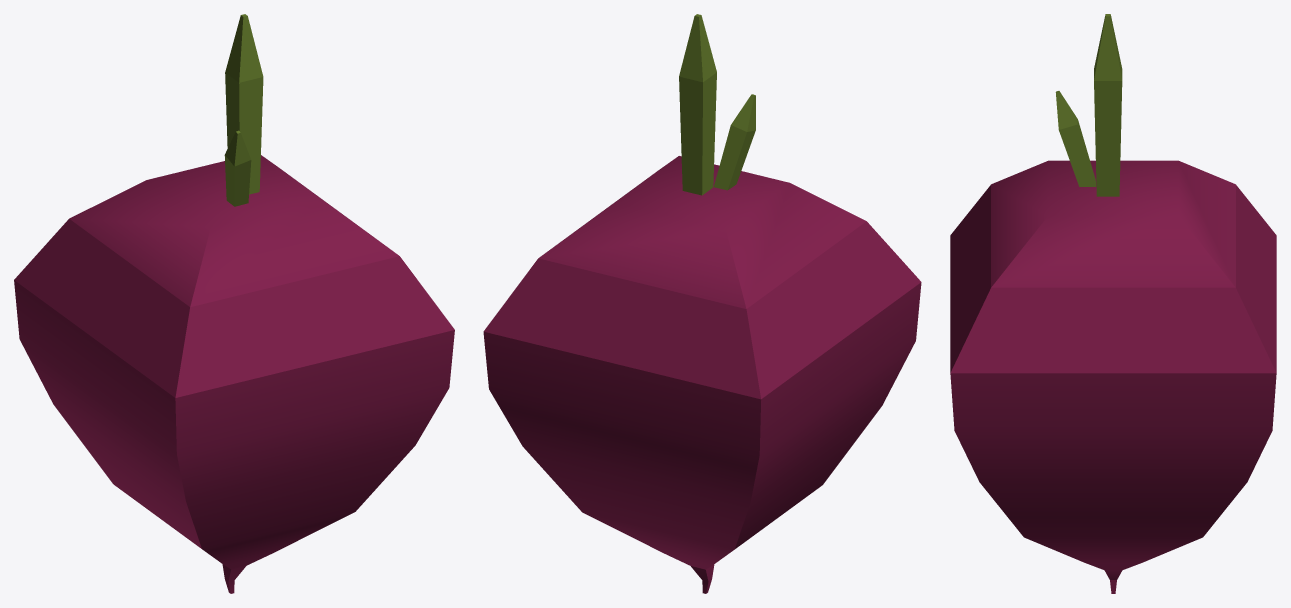
File: Mesh_EarthPlant_03.fbx
3 views of the same model, side by side, from view 1: azimuth 30°, elevation 25°; view 2: azimuth 150°, elevation 25°; view 3: azimuth 270°, elevation 25° (orthographic).
Visible parts, largest first — view 1: Earth_tuber, Crystal, Crystal5; view 2: Earth_tuber, Crystal, Crystal5; view 3: Earth_tuber, Crystal, Crystal5.
Boxes of the visible parts, box(x1,y1,x2,y2) form: Earth_tuber: box(14, 155, 454, 593); Crystal: box(225, 14, 263, 194); Crystal5: box(224, 130, 251, 206); Earth_tuber: box(483, 156, 921, 593); Crystal: box(679, 14, 716, 195); Crystal5: box(714, 94, 755, 190); Earth_tuber: box(950, 160, 1276, 593); Crystal: box(1094, 14, 1122, 196); Crystal5: box(1055, 91, 1095, 186).
Bounding box in the file's own units: 8.66 × 17.08 × 8.66.
